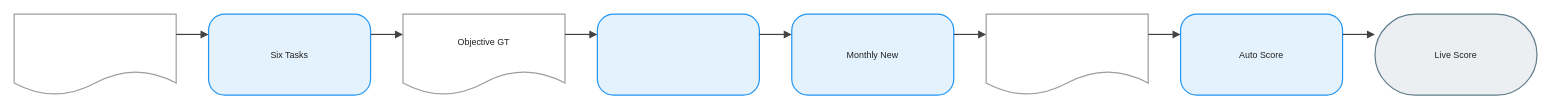
The diagram is 1552 pixels wide and 110 high, and some of its shapes have lost their labels. Here are the shapes that lost their labels. From the top down, the centre of each, then its label:
At pixel 94 54: "Recent Source".
At pixel 678 54: "Prompt Format".
At pixel 1066 54: "Holdout Set".
